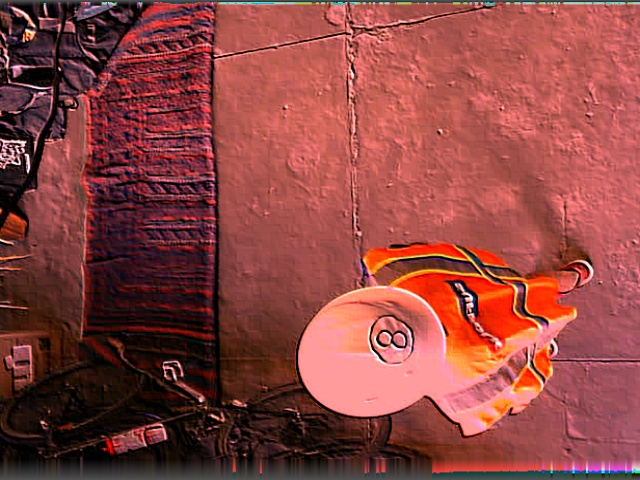eight: (367, 313, 412, 366)
